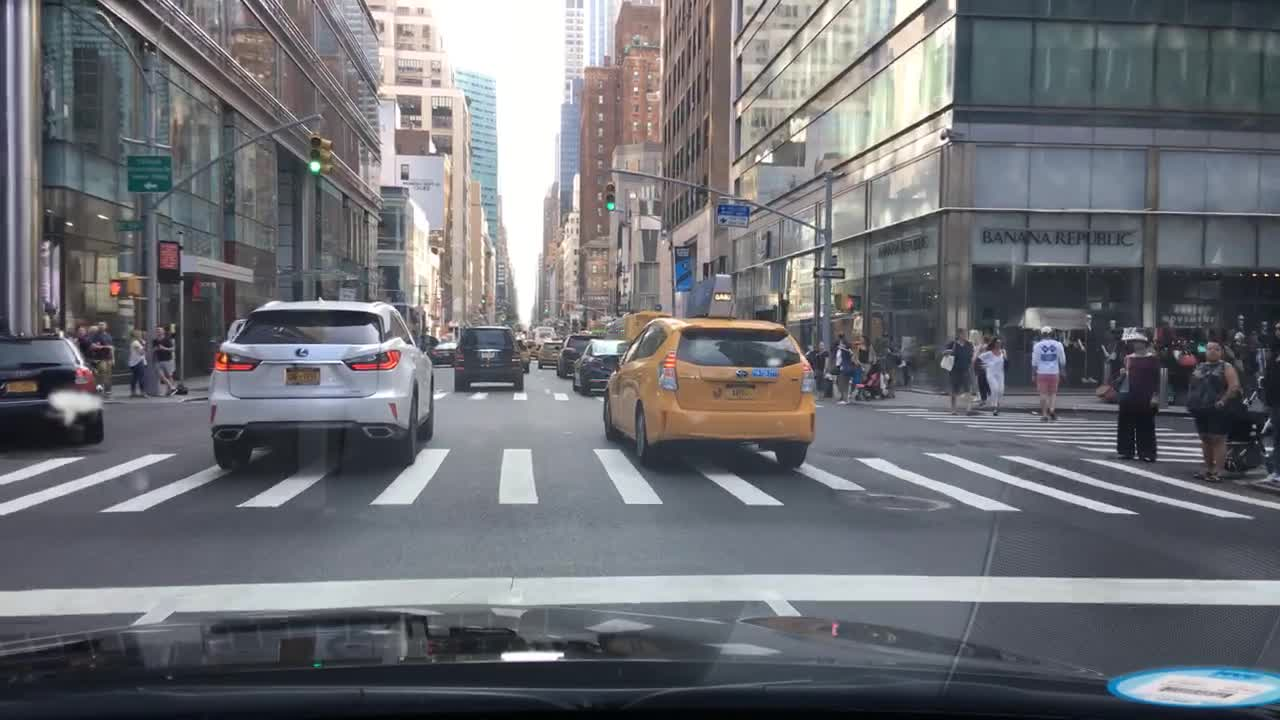car: (600, 273, 817, 468), (207, 295, 437, 466), (0, 330, 103, 447), (450, 323, 526, 392), (570, 335, 630, 396), (607, 308, 674, 349), (554, 330, 601, 376), (537, 335, 566, 370), (427, 339, 457, 366), (515, 337, 533, 371), (525, 336, 542, 359)
person: (1186, 336, 1244, 484), (1112, 329, 1167, 460), (1255, 315, 1277, 486), (1029, 323, 1066, 421), (941, 326, 977, 414), (978, 333, 1010, 416), (149, 324, 184, 399), (128, 326, 150, 398), (95, 320, 115, 394), (851, 331, 880, 382), (830, 337, 852, 404), (973, 333, 994, 403), (1102, 329, 1122, 389), (1242, 329, 1262, 386), (813, 342, 832, 397), (135, 326, 149, 397), (73, 322, 88, 356), (87, 317, 98, 363), (805, 345, 818, 374), (1232, 318, 1246, 343), (889, 341, 903, 365)
traffic light: (307, 132, 323, 172), (323, 139, 336, 179), (109, 275, 128, 296), (603, 183, 615, 213), (841, 292, 857, 311), (126, 275, 140, 296)
traffic sign: (125, 152, 172, 192), (713, 205, 751, 229), (813, 267, 848, 279), (120, 218, 148, 231)
